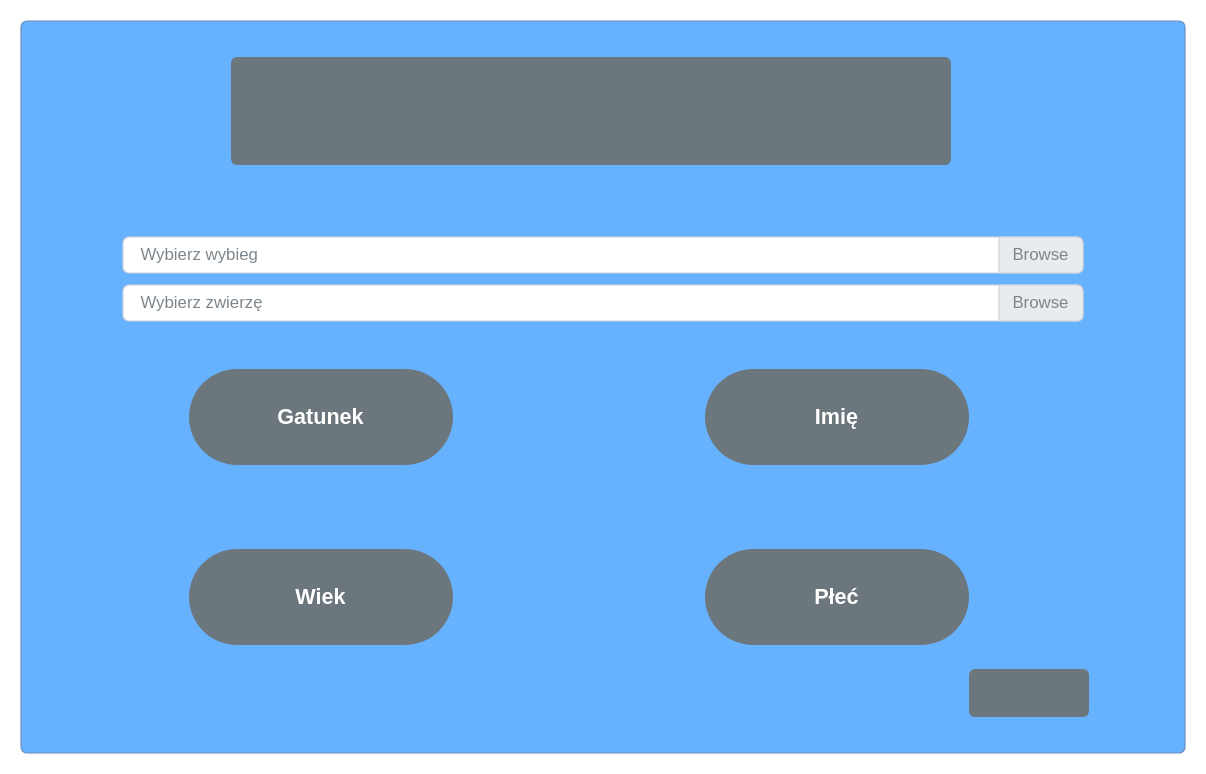
Some shapes in this 1206 by 774 pixel diagram are drawn without their labels. Each missing label, with the centre of its shape:
"Zarządzaj zwierzętami" goes at point (590, 110).
"Zatwierdź" goes at point (1028, 692).
